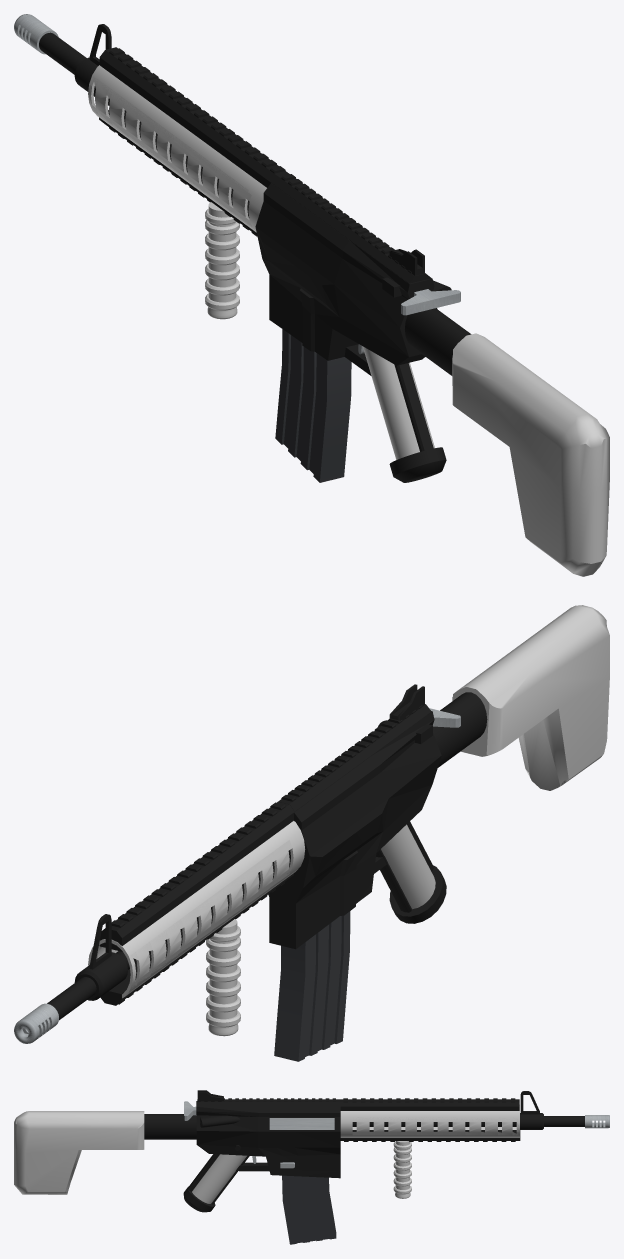
File: M4 Compact.fbx
The picture shows the model from 3 angles, top to bottom: view 1: azimuth 30°, elevation 25°; view 2: azimuth 150°, elevation 25°; view 3: azimuth 270°, elevation 25°; orthographic projection. The views are drawn at different scales.
Visible parts, largest first — view 1: Stock, Reciever, pCylinder20, Magazine, pCube7, pCylinder4, pCylinder21, pCube11, pCylinder3, pCylinder35, pCube10, pCube9 (+1 smaller); view 2: Reciever, Stock, pCylinder20, Magazine, pCube7, pCylinder4, pCylinder21, pCube11, pCylinder35, pCylinder3, pCube9, pCylinder23 (+2 smaller); view 3: Reciever, Stock, pCylinder20, Magazine, pCube7, pCylinder4, pCylinder3, pCube11, pCylinder35, pCylinder21, pCube12, pCube9 (+4 smaller).
Boxes of the visible parts, left/top/right/bottom form: Stock: left=452, top=333, right=609, bottom=576; Reciever: left=255, top=183, right=437, bottom=375; pCylinder20: left=88, top=65, right=266, bottom=232; Magazine: left=275, top=329, right=351, bottom=482; pCube7: left=99, top=47, right=288, bottom=187; pCylinder4: left=363, top=346, right=446, bottom=482; pCylinder21: left=205, top=202, right=239, bottom=319; pCube11: left=272, top=173, right=431, bottom=283; pCylinder3: left=405, top=308, right=471, bottom=375; pCylinder35: left=39, top=32, right=249, bottom=202; pCube10: left=401, top=289, right=460, bottom=315; pCube9: left=99, top=110, right=257, bottom=236; Reciever: left=268, top=711, right=441, bottom=949; Stock: left=452, top=605, right=609, bottom=790; pCylinder20: left=88, top=821, right=305, bottom=998; Magazine: left=274, top=911, right=350, bottom=1061; pCube7: left=99, top=802, right=294, bottom=951; pCylinder4: left=376, top=821, right=446, bottom=923; pCylinder21: left=206, top=919, right=240, bottom=1036; pCube11: left=278, top=704, right=431, bottom=811; pCylinder35: left=47, top=850, right=290, bottom=1020; pCylinder3: left=433, top=692, right=487, bottom=767; pCube9: left=100, top=863, right=293, bottom=1005; pCylinder23: left=14, top=1003, right=58, bottom=1043; Reciever: left=196, top=1101, right=340, bottom=1178; Stock: left=14, top=1111, right=144, bottom=1194; pCylinder20: left=340, top=1105, right=519, bottom=1137; Magazine: left=282, top=1175, right=336, bottom=1244; pCube7: left=339, top=1098, right=519, bottom=1110; pCylinder4: left=183, top=1154, right=249, bottom=1212; pCylinder3: left=144, top=1114, right=196, bottom=1139; pCube11: left=197, top=1098, right=339, bottom=1106; pCylinder35: left=352, top=1113, right=584, bottom=1129; pCylinder21: left=393, top=1141, right=411, bottom=1198; pCube12: left=269, top=1118, right=334, bottom=1129; pCube9: left=340, top=1130, right=520, bottom=1141.
Bounding box in the file's own units: 0.3643 × 1.5 × 5.39.
